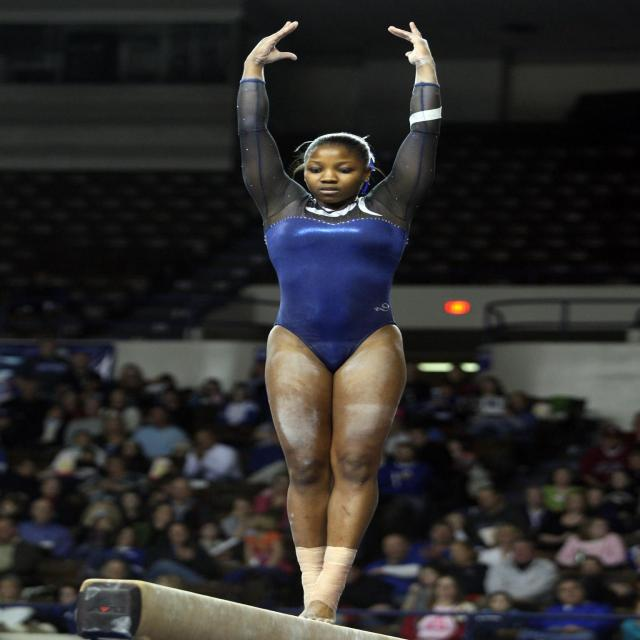nomask: (309, 142, 359, 197)
